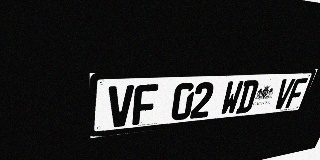0: (170, 82, 196, 121)
2: (190, 82, 215, 119)
D: (235, 80, 260, 114)
F: (132, 84, 158, 125), (285, 78, 308, 108)
V: (108, 85, 134, 128), (272, 78, 296, 110)
W: (219, 81, 244, 116)
